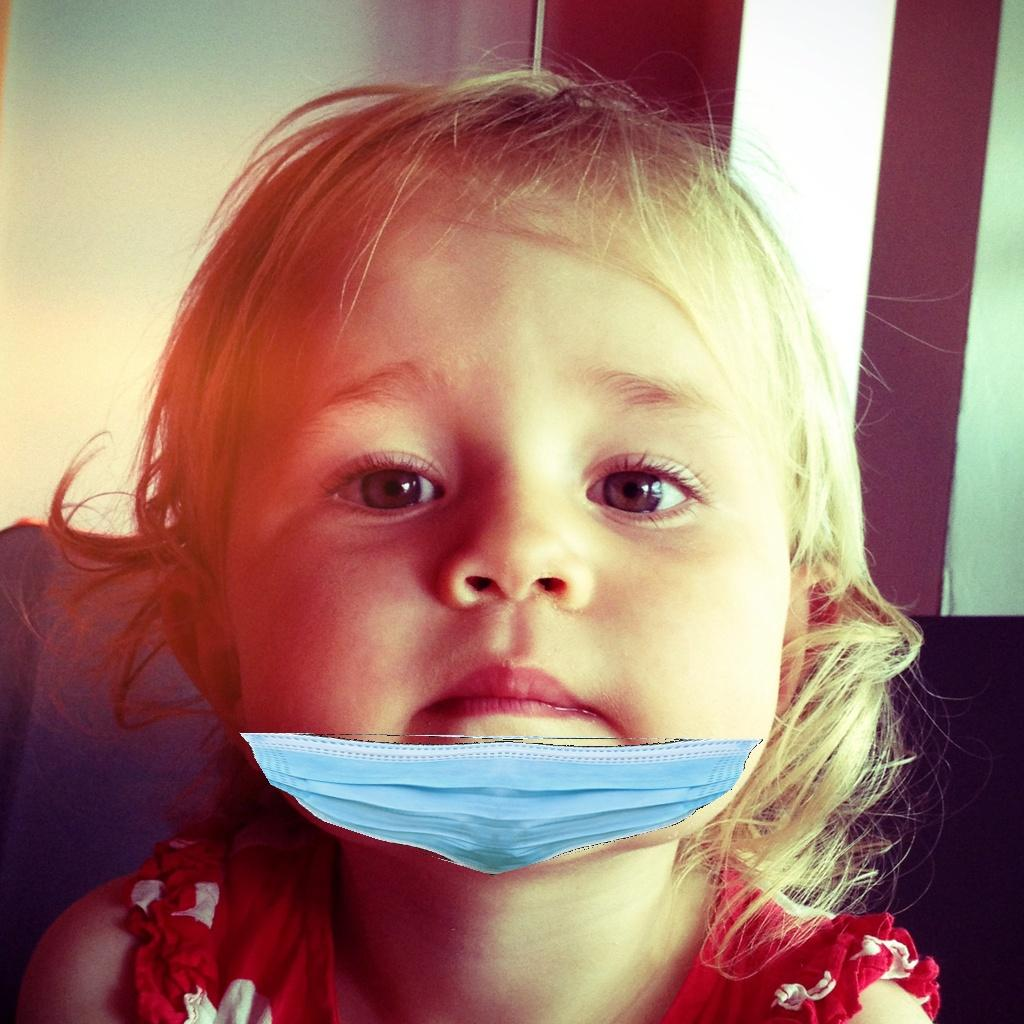Máscara Incorreta: (227, 328, 791, 862)
